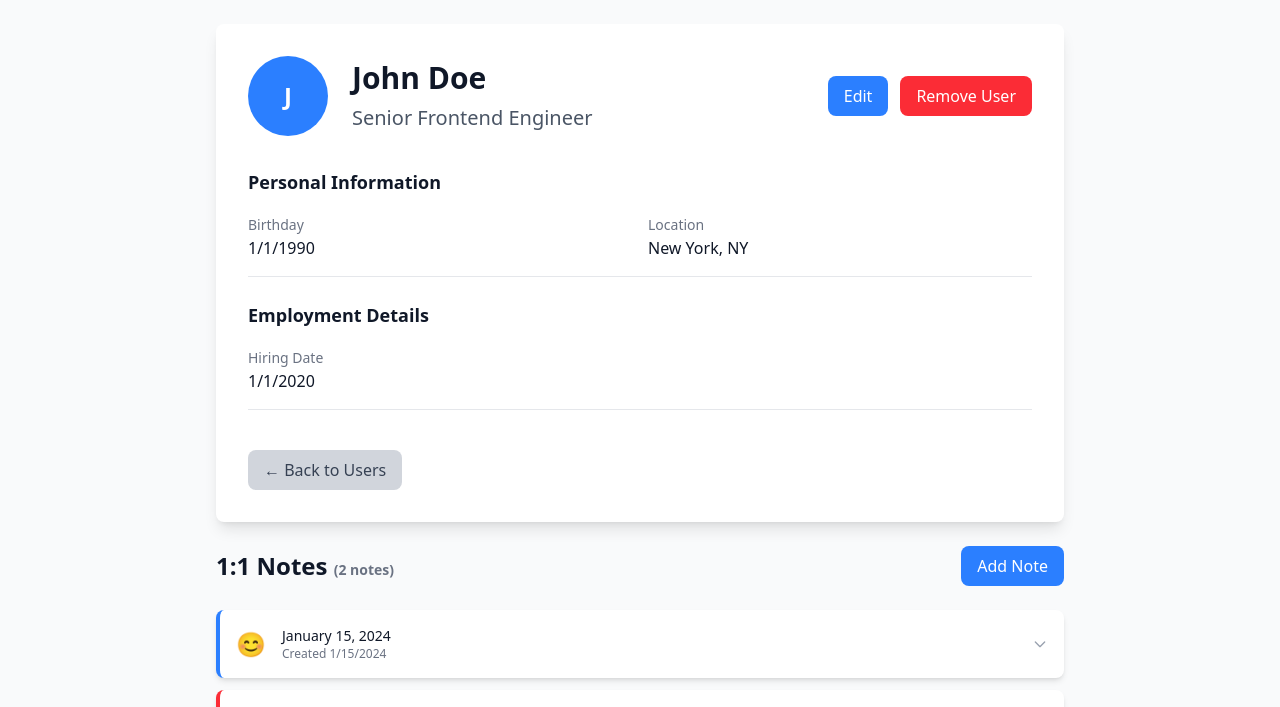
Test: UserDetail › opens delete confirmation modal when remove note is clicked
This screenshot has width=1280, height=707.
Click the element with test id "note-card-1".
click(336, 636)  # box [236,626,1048,662]
(page scrolled)
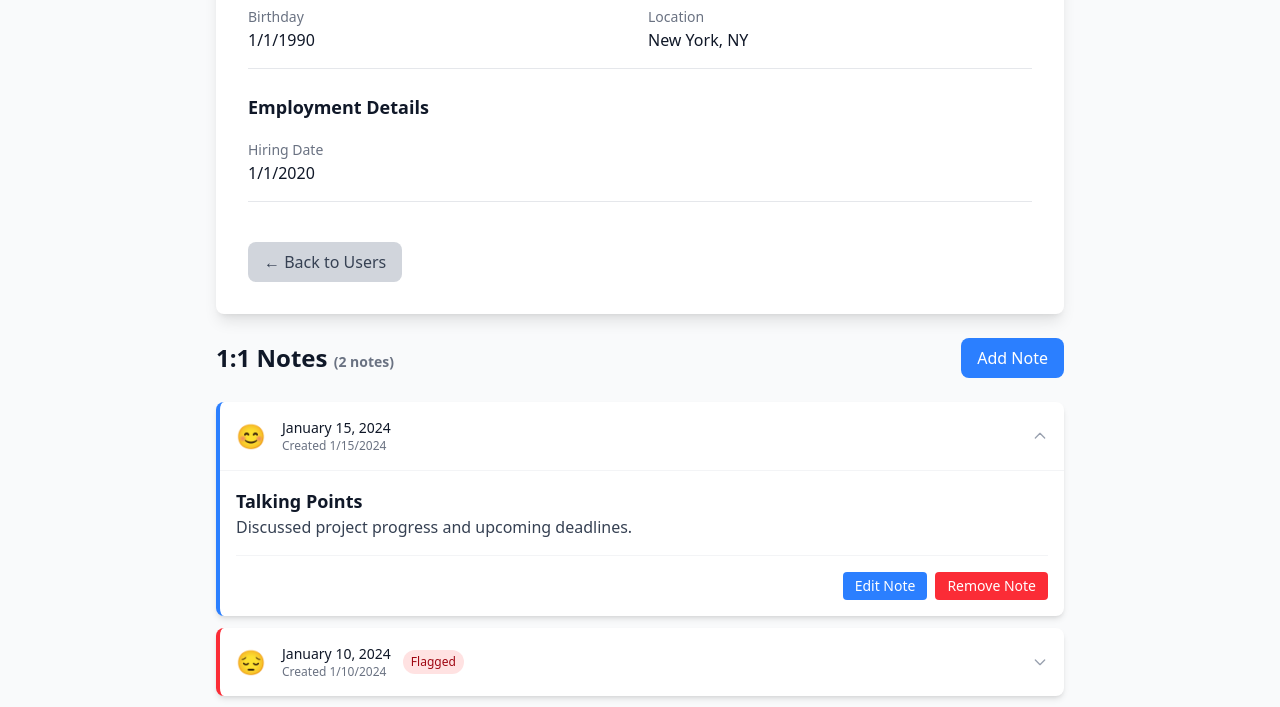
Click the button "Remove Note".
click(992, 586)  # box [935,572,1048,600]
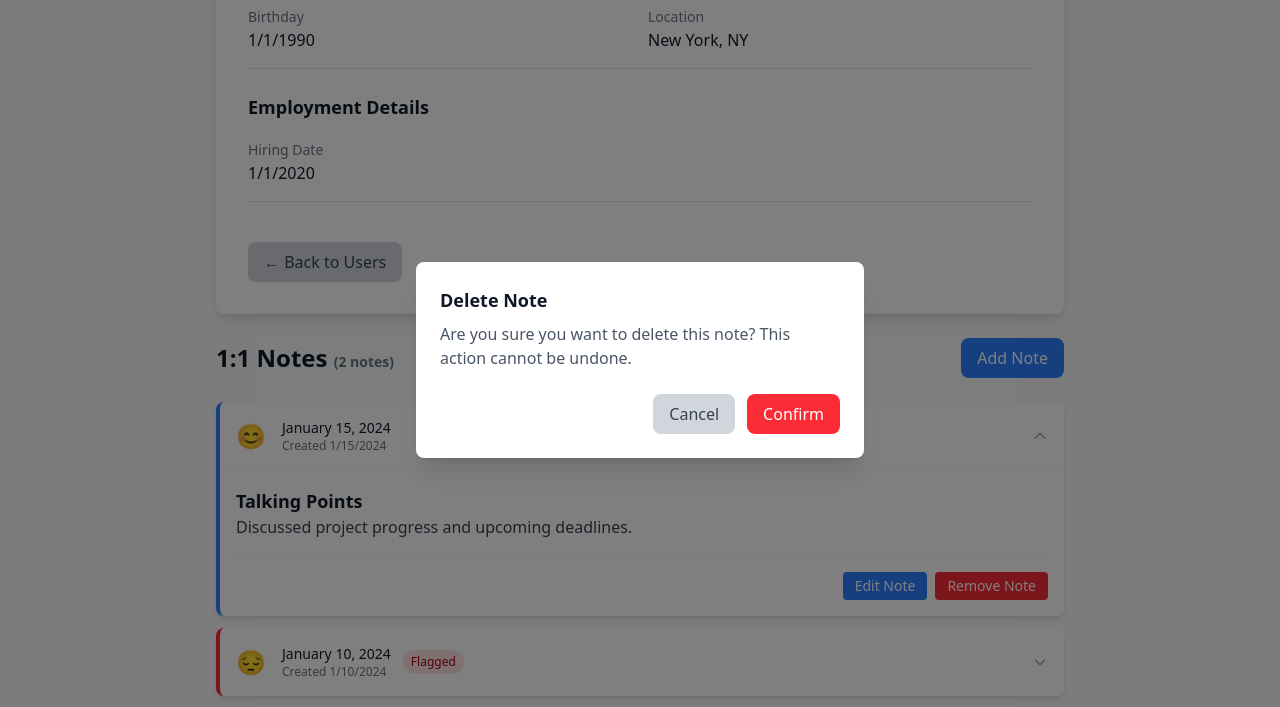
Now the heading "Delete Note" is shown, box [440,288,548,312]
Now the text "Are you sure you want to delete this note? This action cannot be undone." is shown, box [440,322,840,370]
